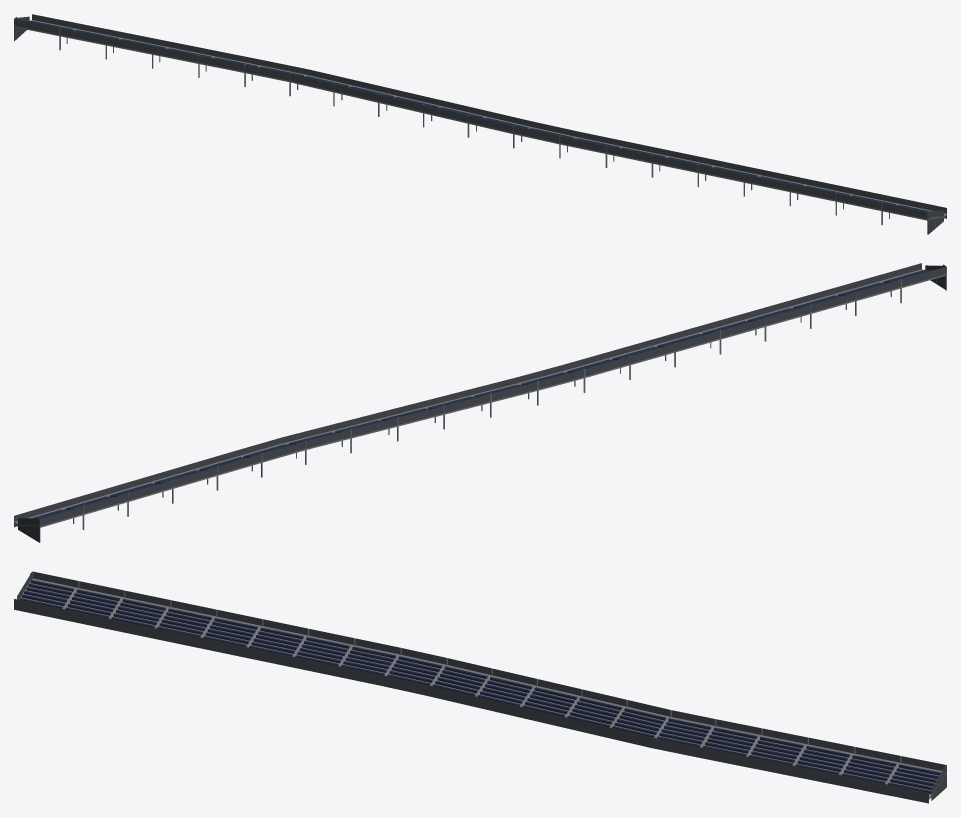
Rendered from sil_stand_luffield_front.glb.
3 views of the same model, one above another, from view 1: azimuth 90°, elevation 25°; view 2: azimuth 150°, elevation 25°; view 3: azimuth 270°, elevation 25° (orthographic). The views are drawn at different scales.
Visible parts, largest first — view 1: silverstone-luffield-front; view 2: silverstone-luffield-front; view 3: silverstone-luffield-front.
Boxes of the visible parts, x1,y1,x2,y2 form: silverstone-luffield-front: (14,14,946,234); silverstone-luffield-front: (14,263,946,542); silverstone-luffield-front: (14,571,946,803).
Bounding box in the file's own units: 78.93 × 3.9 × 148.
